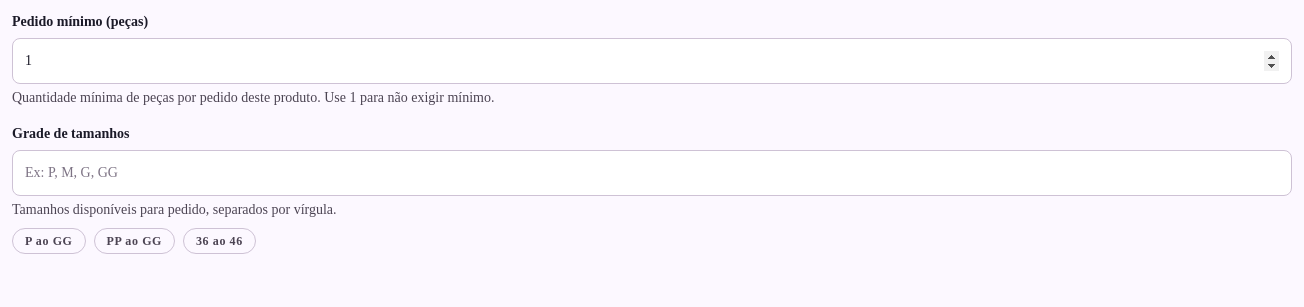
Test: WholesaleFields › fills the grid from a preset and previews each size
Click the button "P ao GG" at (49, 241), box x1=12 y1=228 x2=86 y2=254
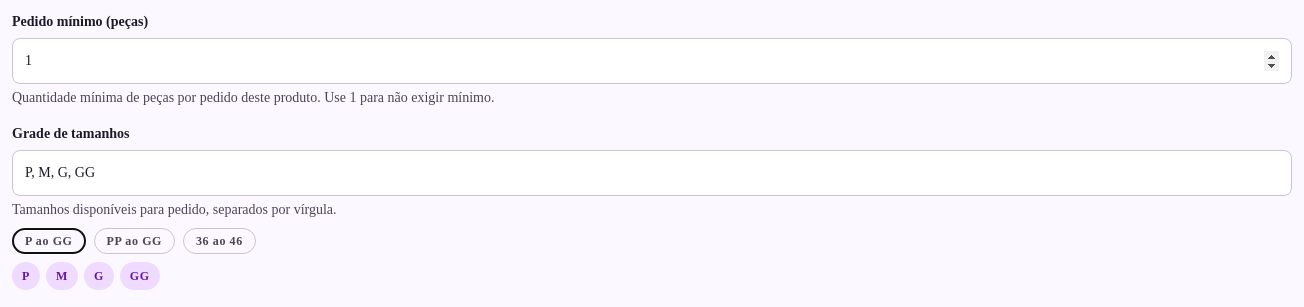
Check: the field labelled "Grade de tamanhos" holds "P, M, G, GG", box x1=12 y1=150 x2=1292 y2=196
Check: the number of list items is 4, box x1=12 y1=262 x2=40 y2=290; x1=46 y1=262 x2=78 y2=290; x1=84 y1=262 x2=114 y2=290; x1=120 y1=262 x2=160 y2=290
